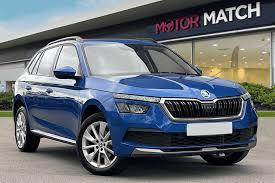skoda: (200, 89, 212, 100)
